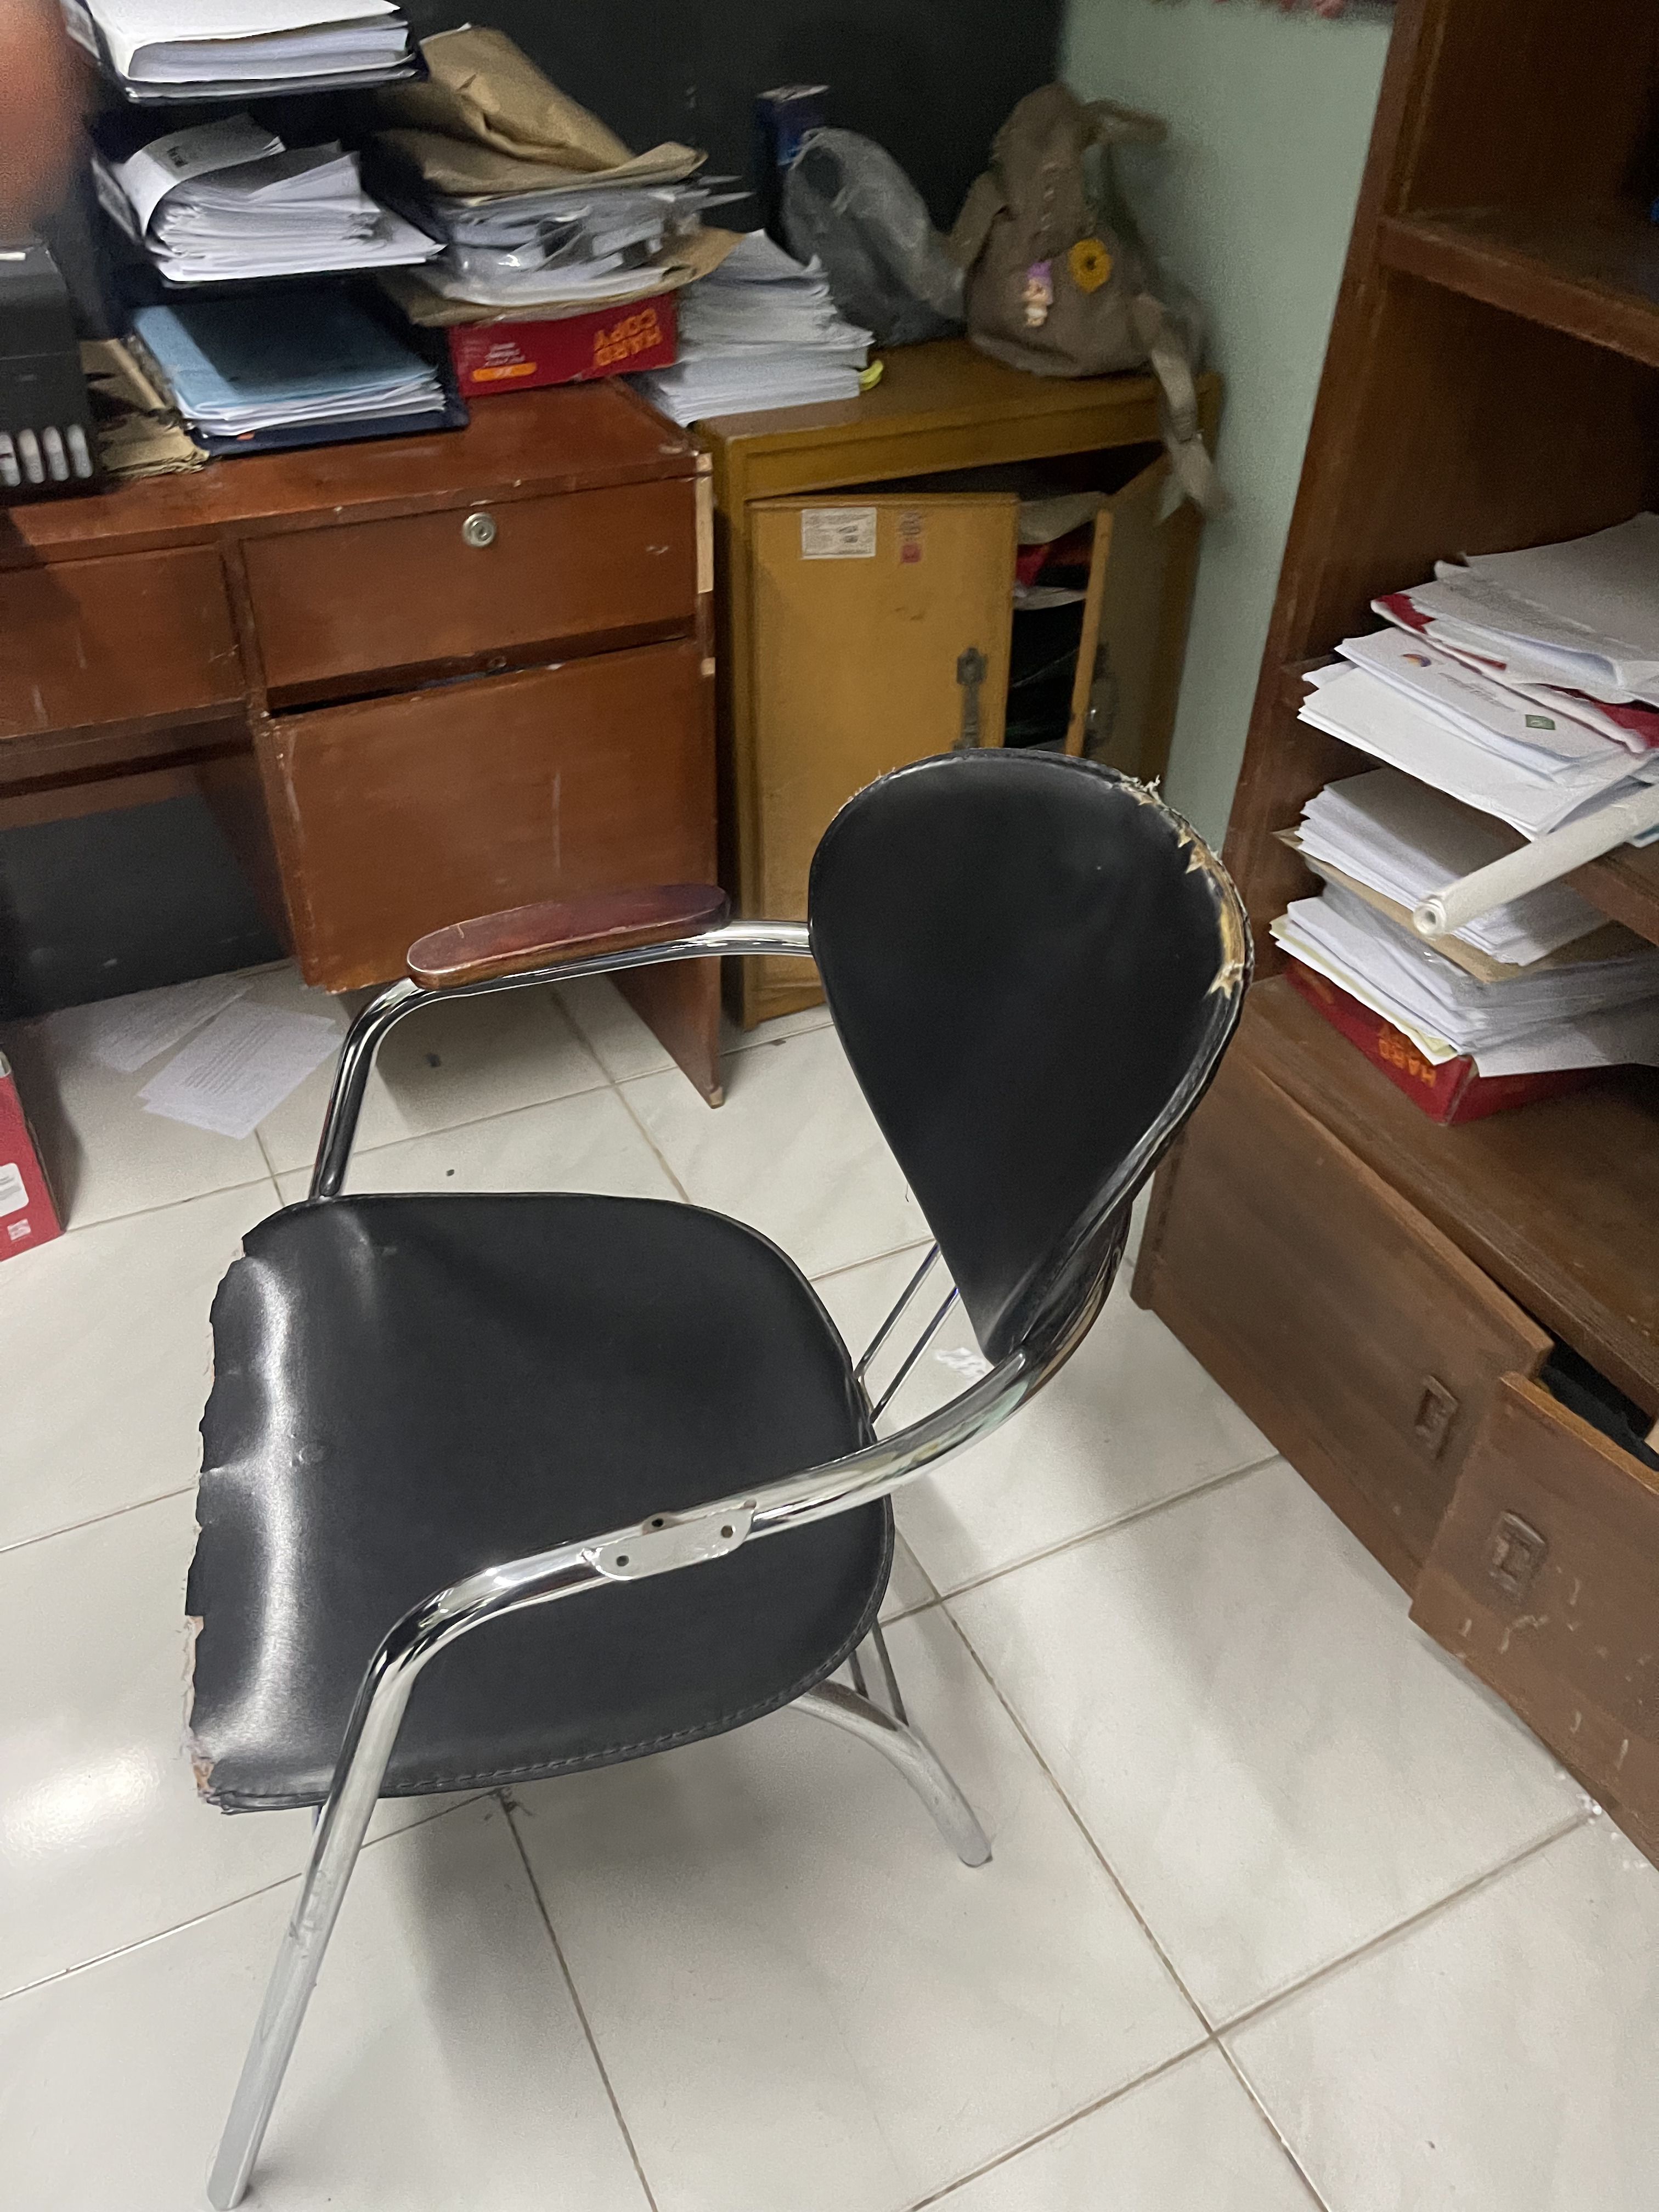chair1: (173, 742, 1260, 2212)
